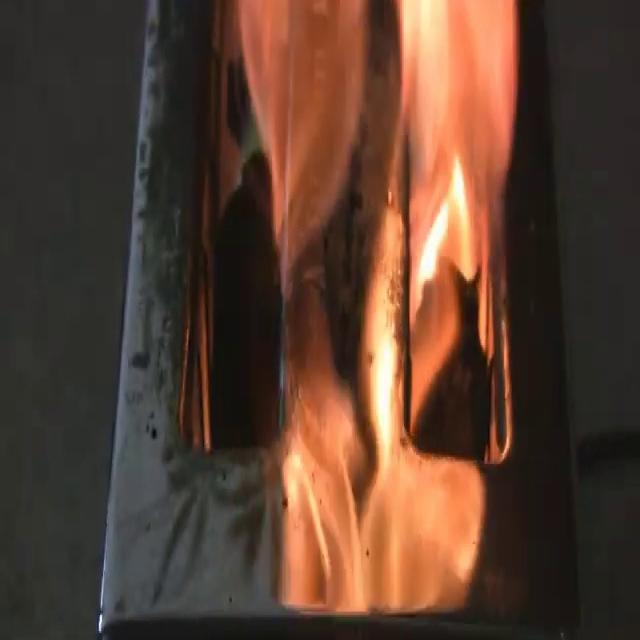fire: (228, 0, 528, 620)
